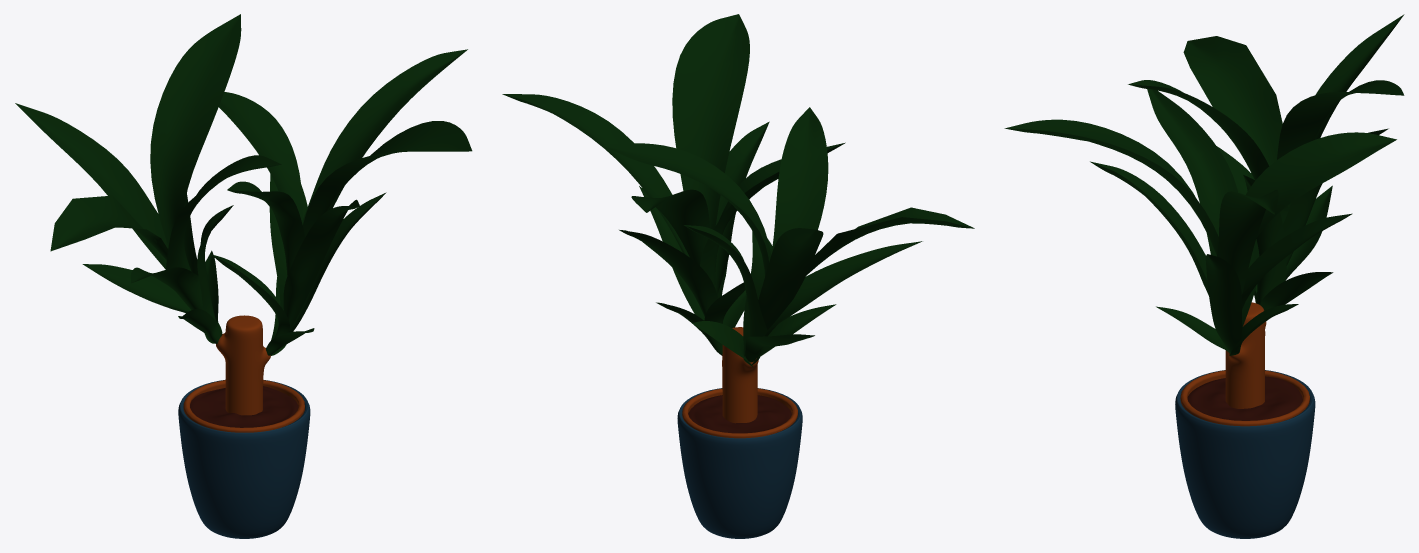
Rendered from indoorplant_03.obj.
3 renders of one model, left to right at view 1: azimuth 30°, elevation 25°; view 2: azimuth 150°, elevation 25°; view 3: azimuth 270°, elevation 25°, orthographic. The views are drawn at different scales.
Parts seen in each view (by area): view 1: indoor_plant_02; view 2: indoor_plant_02; view 3: indoor_plant_02.
Boxes of the visible parts, x1=… form: indoor_plant_02: x1=15, y1=14, x2=472, y2=538; indoor_plant_02: x1=502, y1=14, x2=974, y2=538; indoor_plant_02: x1=1004, y1=14, x2=1404, y2=538.
Size of the model in its own units: 6.82 by 6.22 by 4.86.
